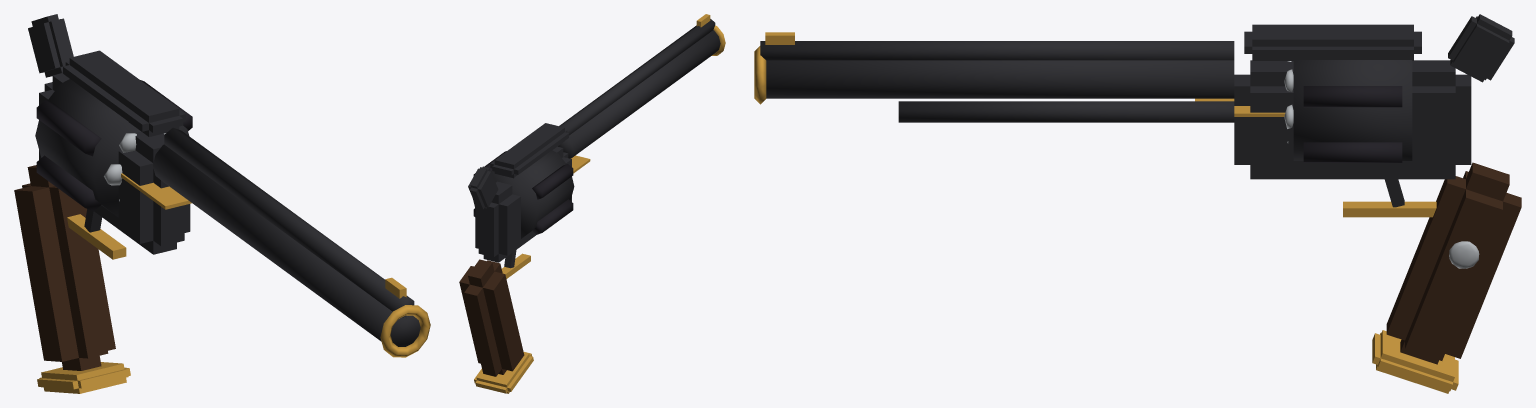
Rendered from gothic-revolver.glb.
The picture shows the model from 3 angles, left to right: view 1: azimuth 30°, elevation 25°; view 2: azimuth 150°, elevation 25°; view 3: azimuth 270°, elevation 25°; orthographic projection. The views are drawn at different scales.
Visible parts, largest first — view 1: Model Mesh, Drum Mesh; view 2: Model Mesh, Drum Mesh; view 3: Model Mesh, Drum Mesh.
Boxes of the visible parts, x1,y1,x2,y2 form: Model Mesh: (14,14,430,393); Drum Mesh: (35,79,192,217); Model Mesh: (459,14,725,393); Drum Mesh: (473,150,574,238); Model Mesh: (754,14,1521,393); Drum Mesh: (1284,60,1412,162).
Size of the model in its own units: 0.0641 by 0.2044 by 0.3884.
